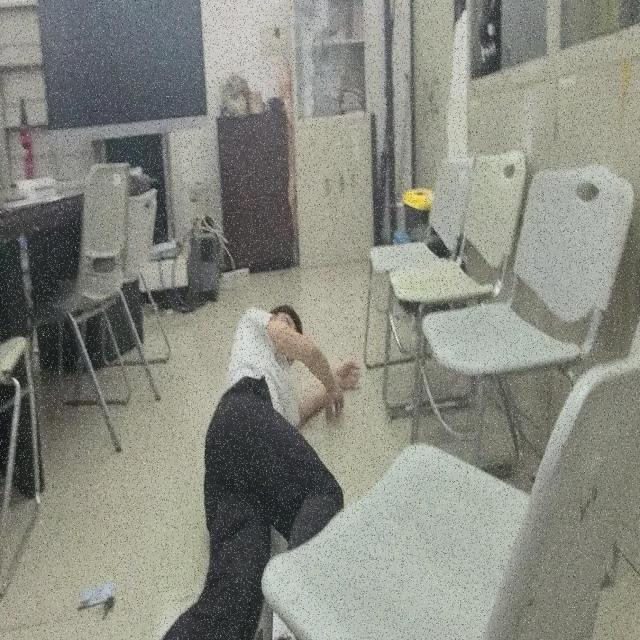fall: (152, 304, 360, 640)
